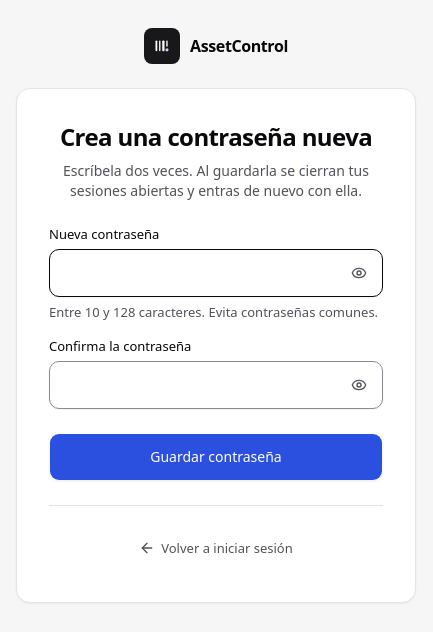
Test case: /restablecer: enviar › tras un error de contraseña se puede corregir y enviar de nuevo con el mismo enlace
The width and height of the screenshot is (433, 632).
Later steps or results of the test are not shown.
Type "contrasena123" into the password field labelled "Nueva contraseña" at coordinates (216, 272), box [49,248,383,296]
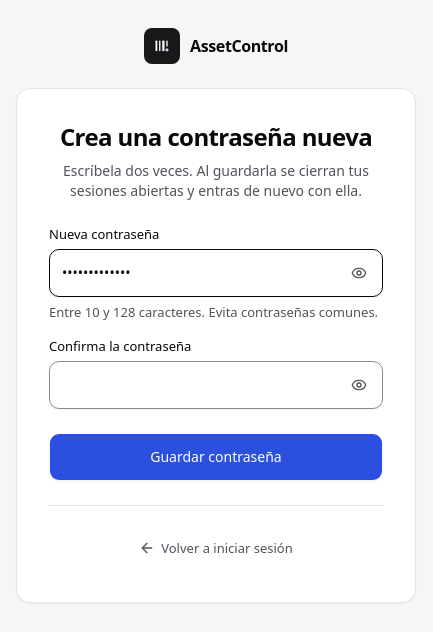
Type "contrasena123" into the password field labelled "Confirma la contraseña" at coordinates (216, 384), box [49,360,383,408]
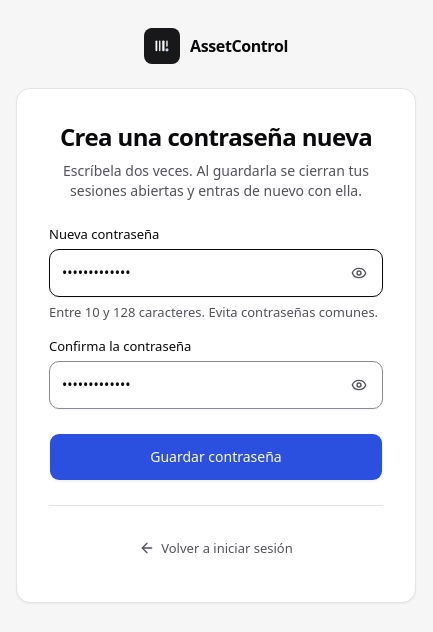
Click the button "Guardar contraseña" at coordinates (216, 456), box [49,432,383,480]
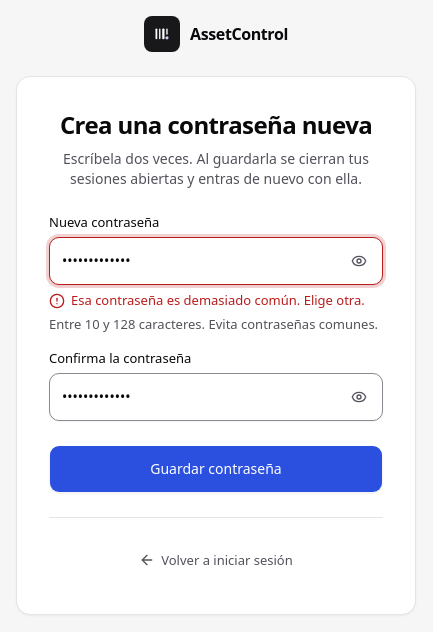
Expected: the text "Esa contraseña es demasiado común. Elige otra." is shown, [49,290,383,308]
